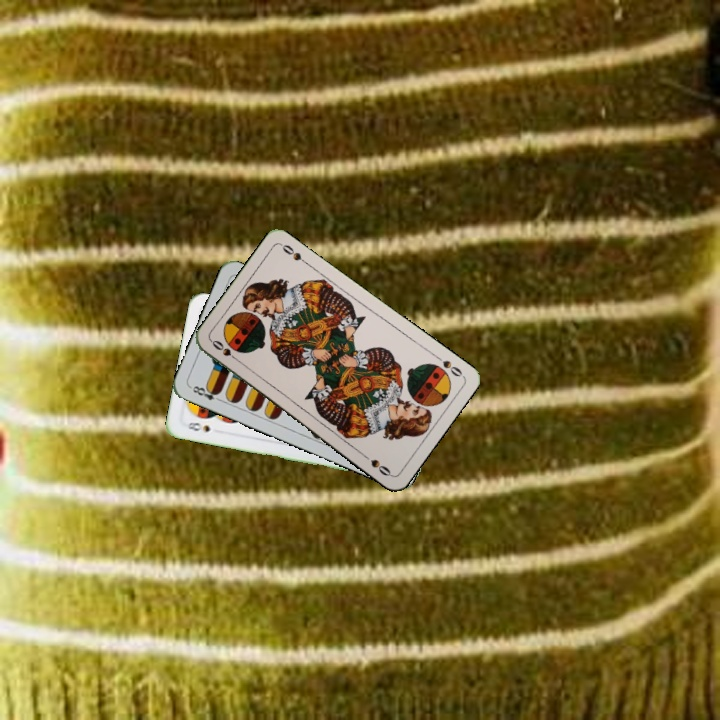E8: (188, 382, 225, 405)
S8: (184, 418, 212, 435)
SO: (208, 336, 243, 365), (431, 351, 465, 380)
